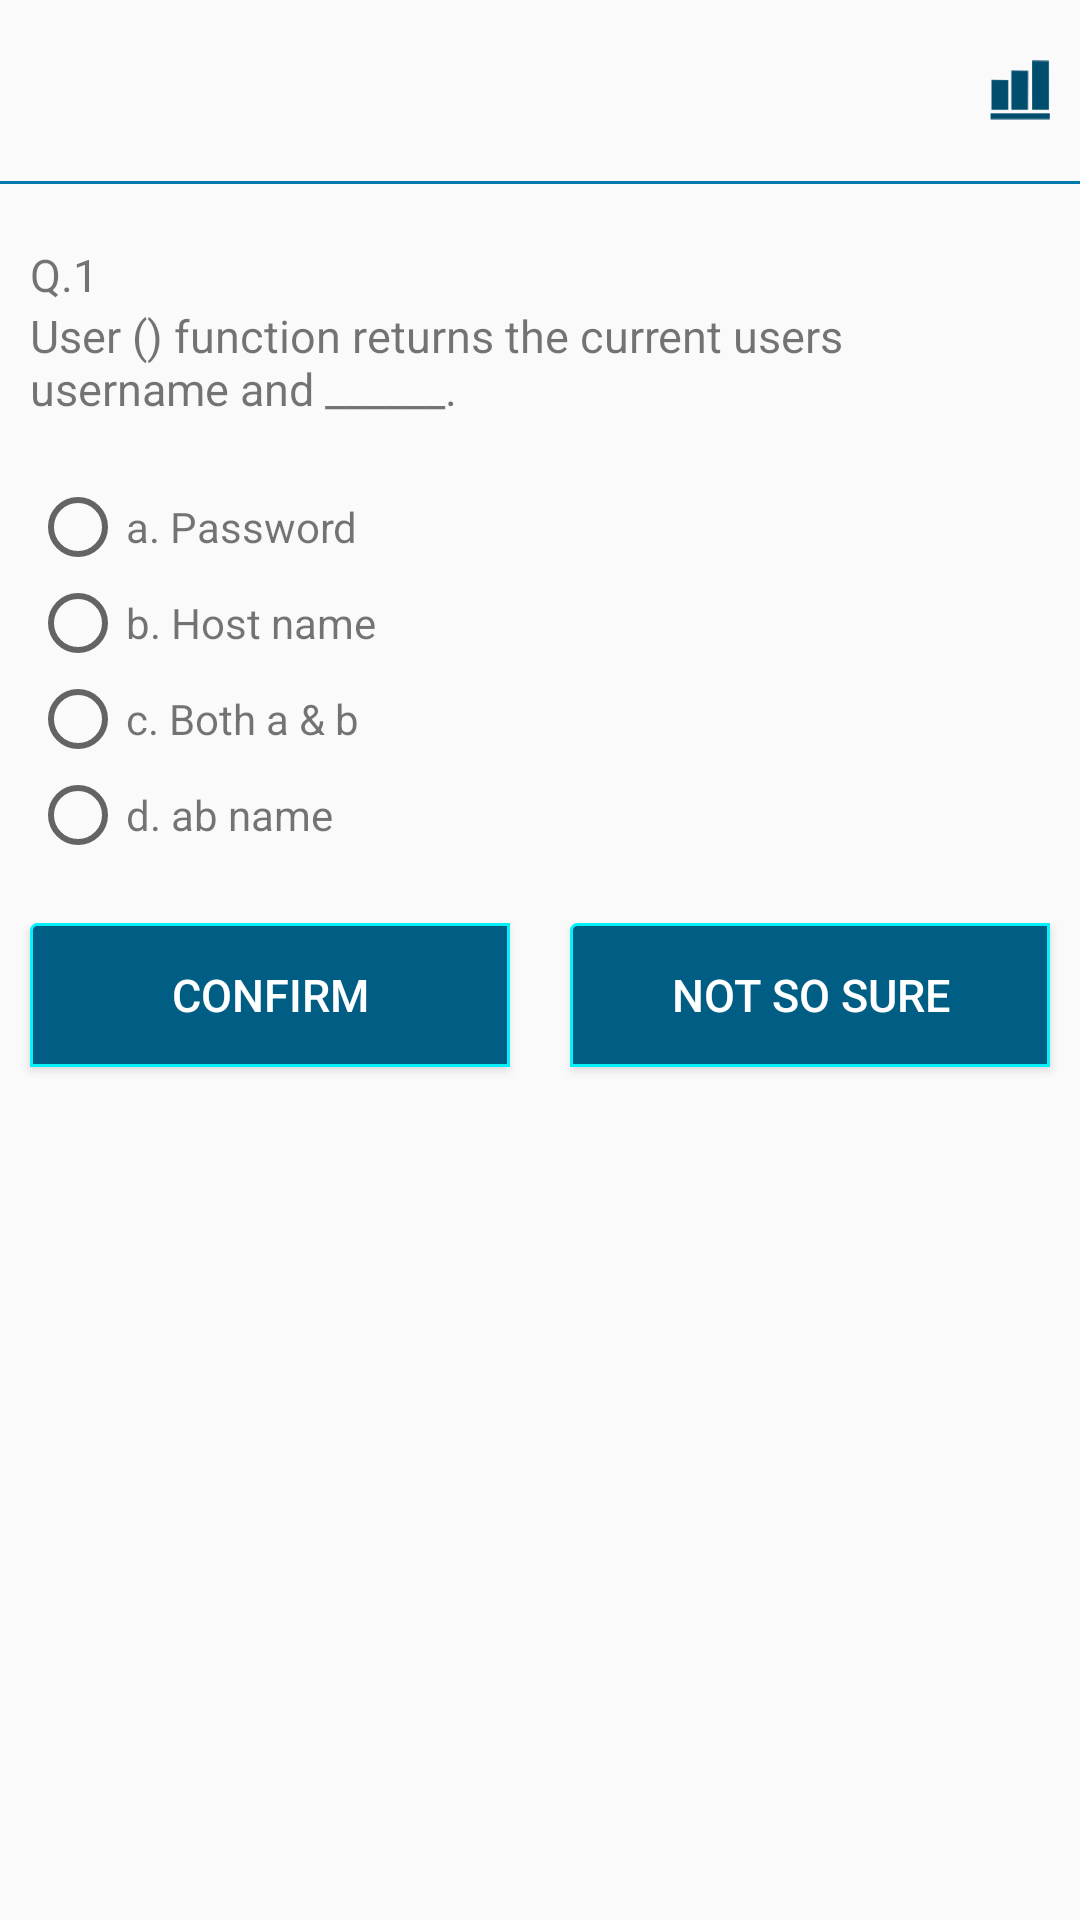

Where to tap for icons on this 1080px x 1920px app screen, as (x,y):
assesment: (1020,90)
